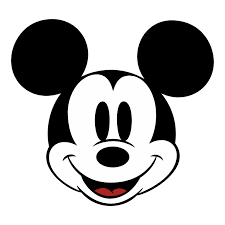mickey: (10, 18, 214, 207)
